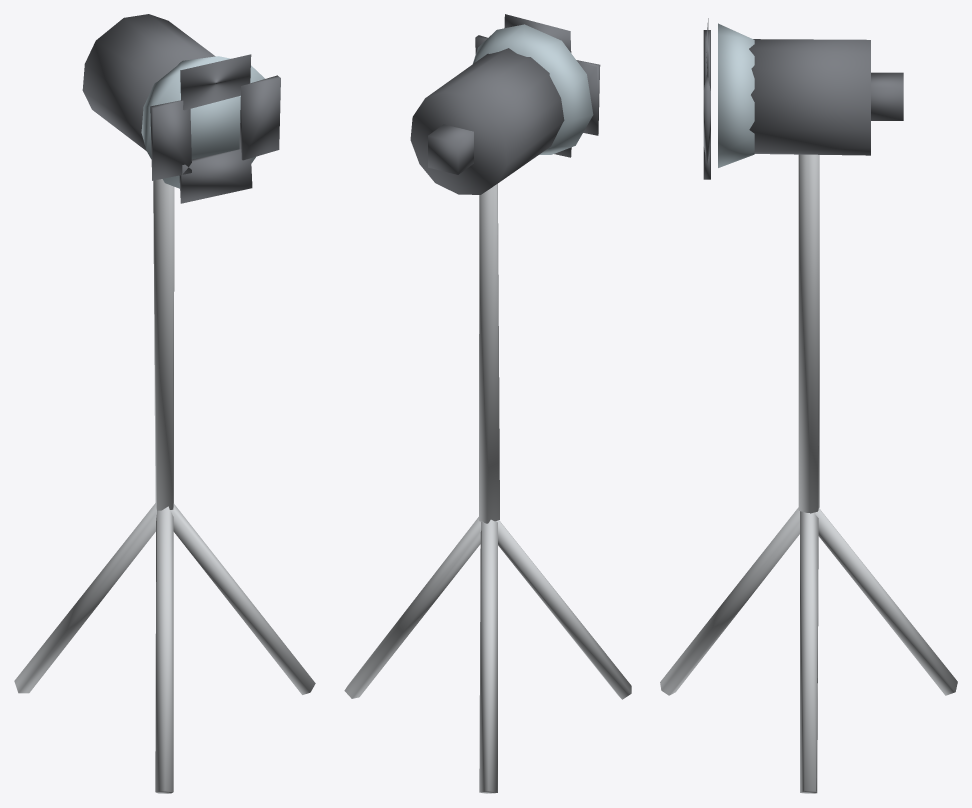
Rendered from Prop_Fresnel_LOD1.glb.
The picture shows the model from 3 angles, left to right: view 1: azimuth 30°, elevation 25°; view 2: azimuth 150°, elevation 25°; view 3: azimuth 270°, elevation 25°; orthographic projection. The views are drawn at different scales.
Visible parts, largest first — view 1: Prop_Fresnel_LOD1; view 2: Prop_Fresnel_LOD1; view 3: Prop_Fresnel_LOD1.
Boxes of the visible parts, x1,y1,x2,y2 form: Prop_Fresnel_LOD1: (14, 14, 315, 793); Prop_Fresnel_LOD1: (344, 14, 631, 793); Prop_Fresnel_LOD1: (660, 18, 957, 793).
Size of the model in its own units: 0.7193 by 2.11 by 0.819.
